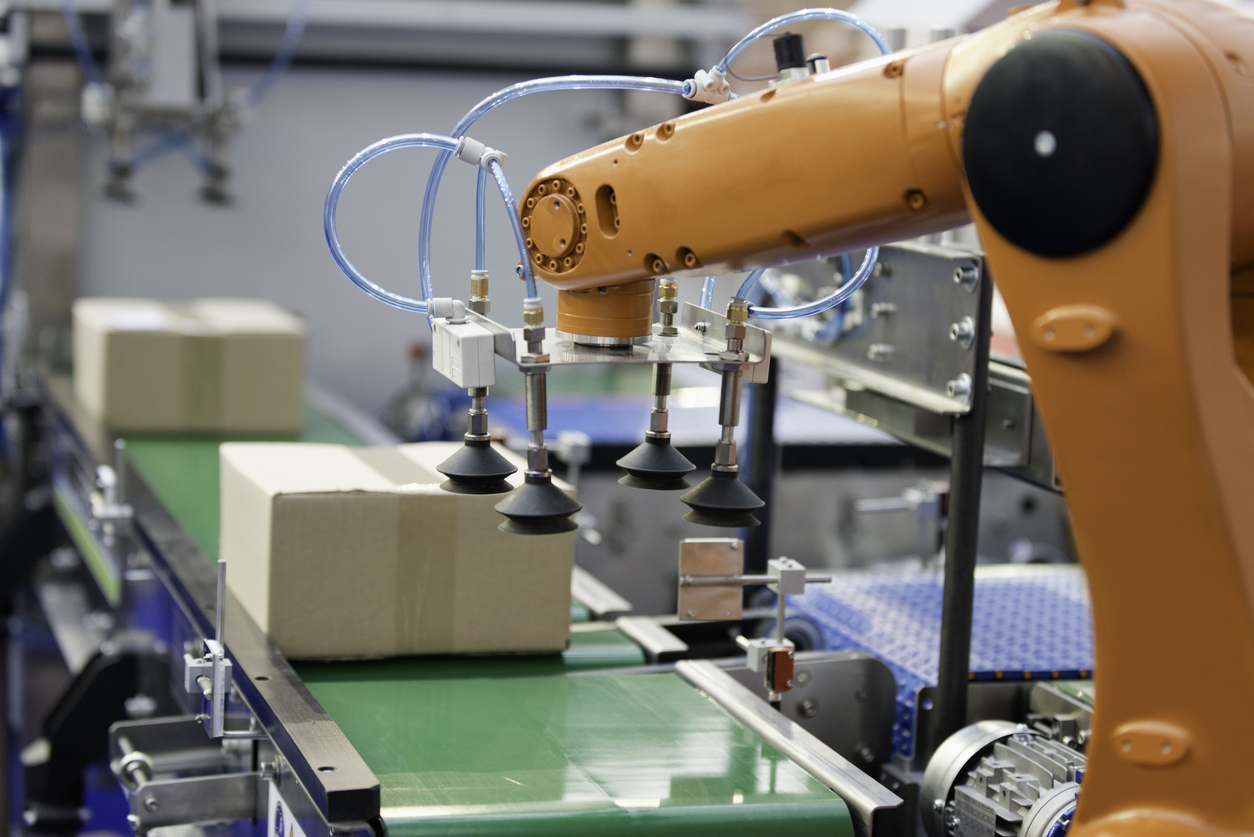robot: (516, 2, 1254, 834)
